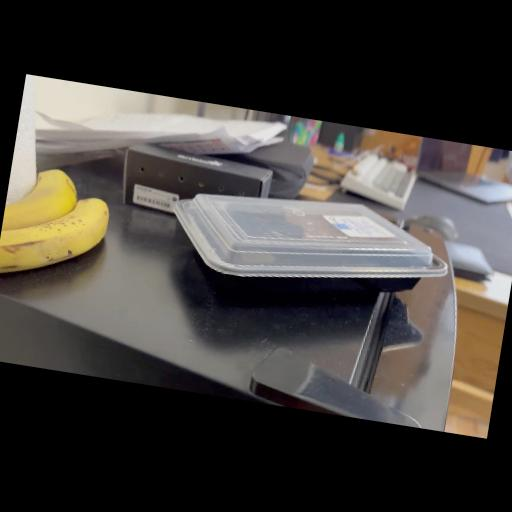rigid_plastic_container: (172, 175, 446, 307)
